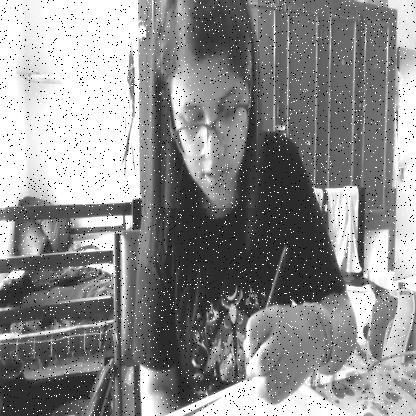Normal: (161, 0, 258, 208)
